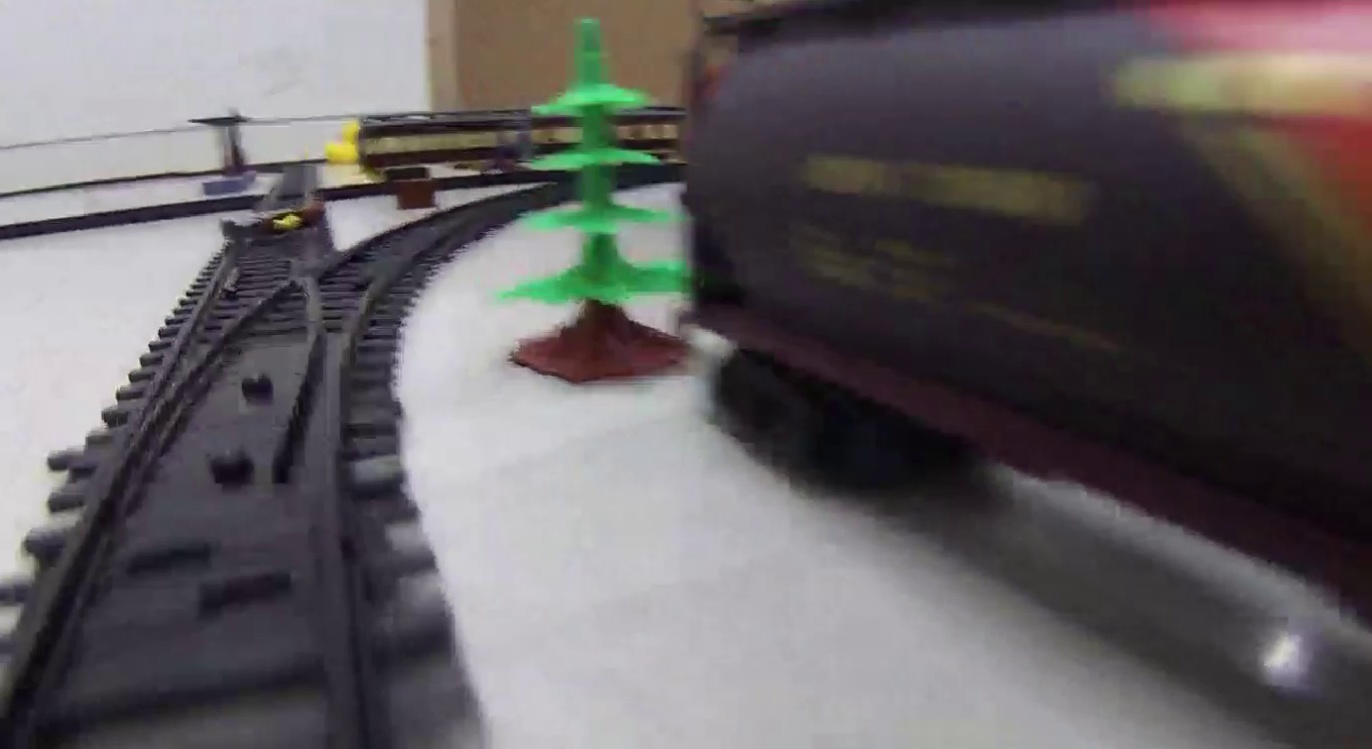tree: (498, 8, 688, 380)
